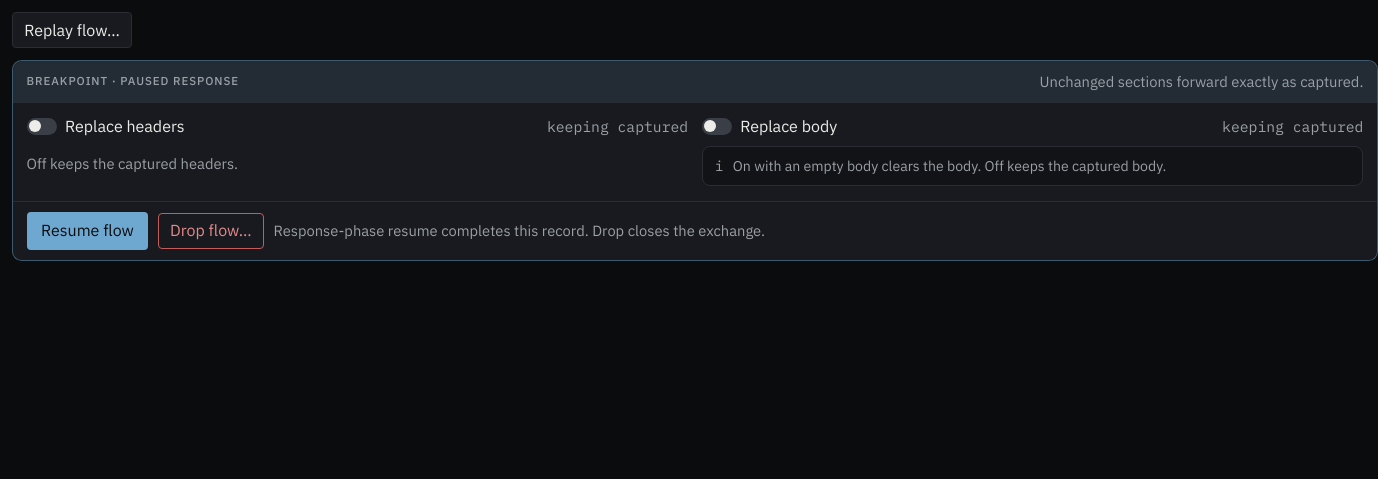
it: sends edited header rows/body and displays server errors
Click the checkbox labelled "Replace headers": (42, 126) [27,118,57,135]
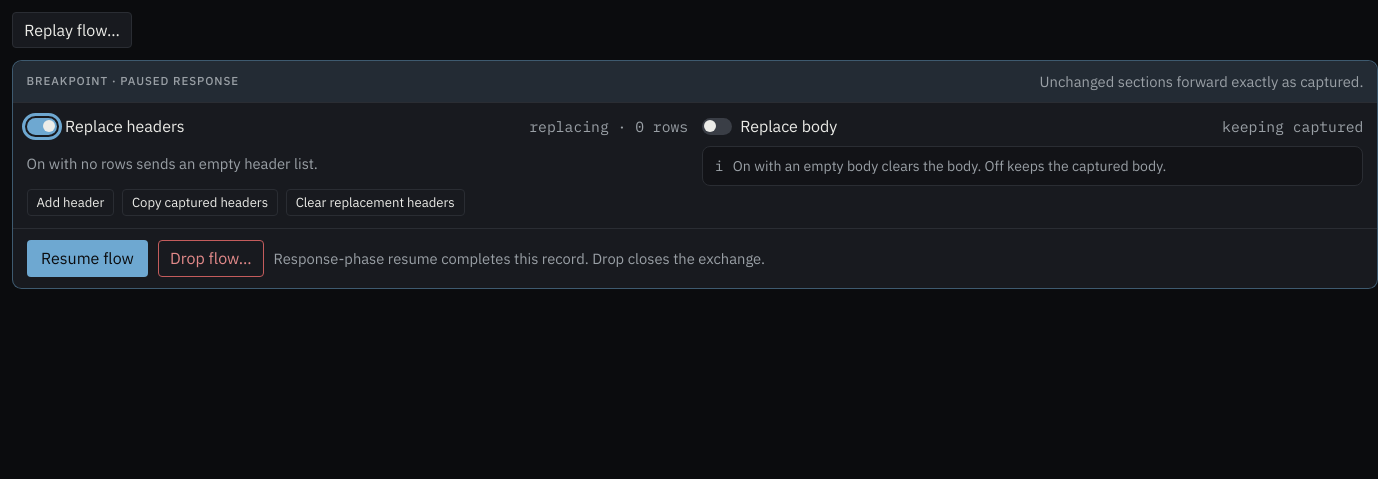
Click the button "Add header": (70, 202) [27,189,114,216]
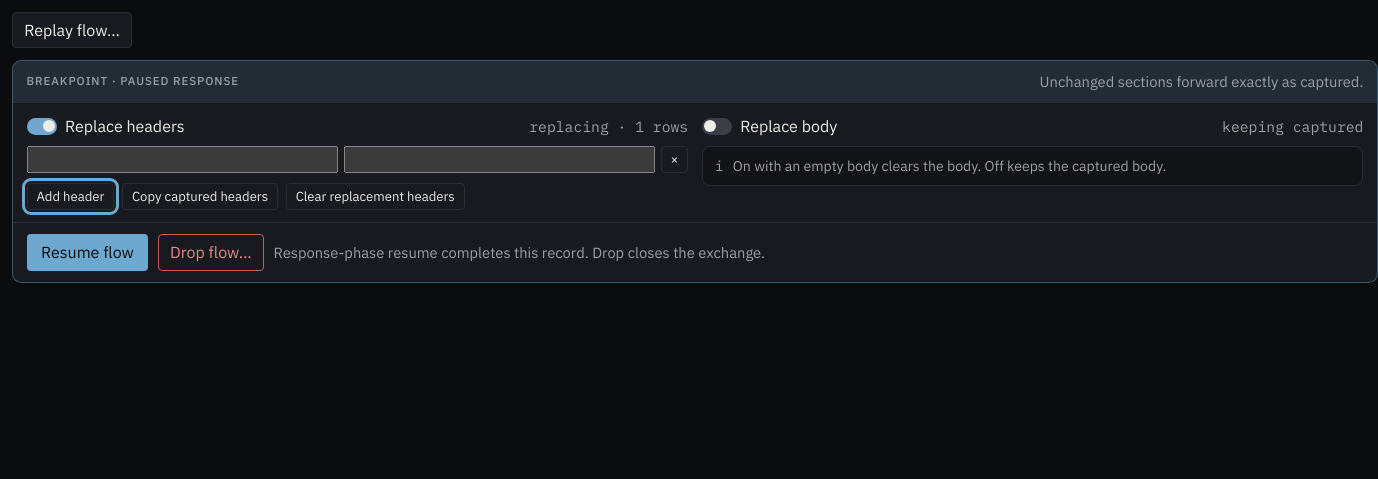
In the field named "Header name 1": (182, 160) [27,146,338,174], type "X-Lab"
In the field named "Header value 1": (499, 160) [344,146,655,174], type "test"
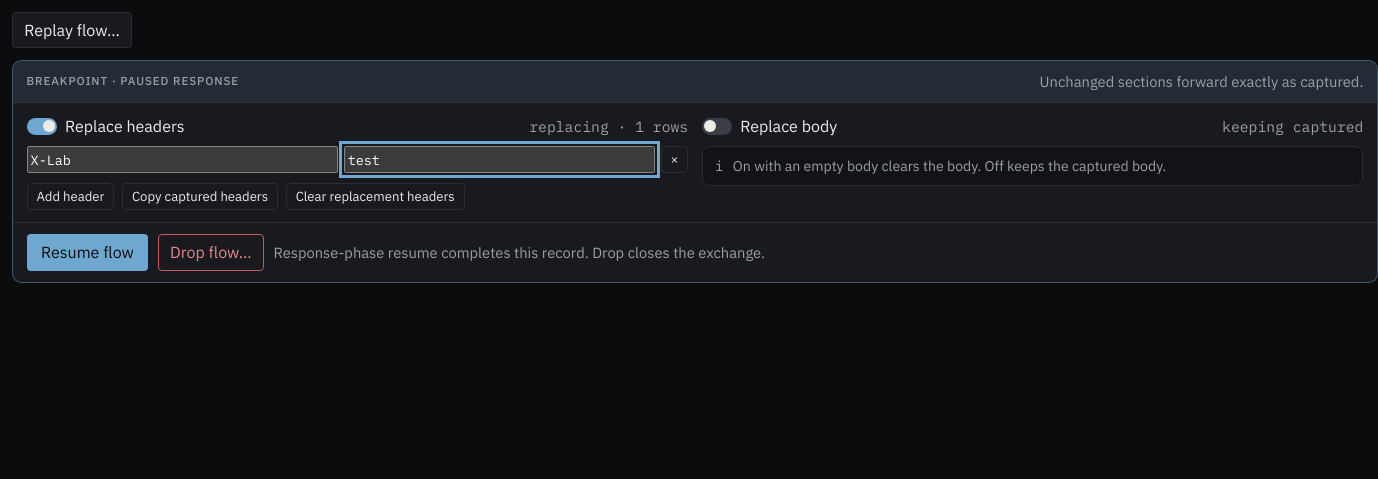
Click the checkbox labelled "Replace body": (717, 126) [702,118,732,135]
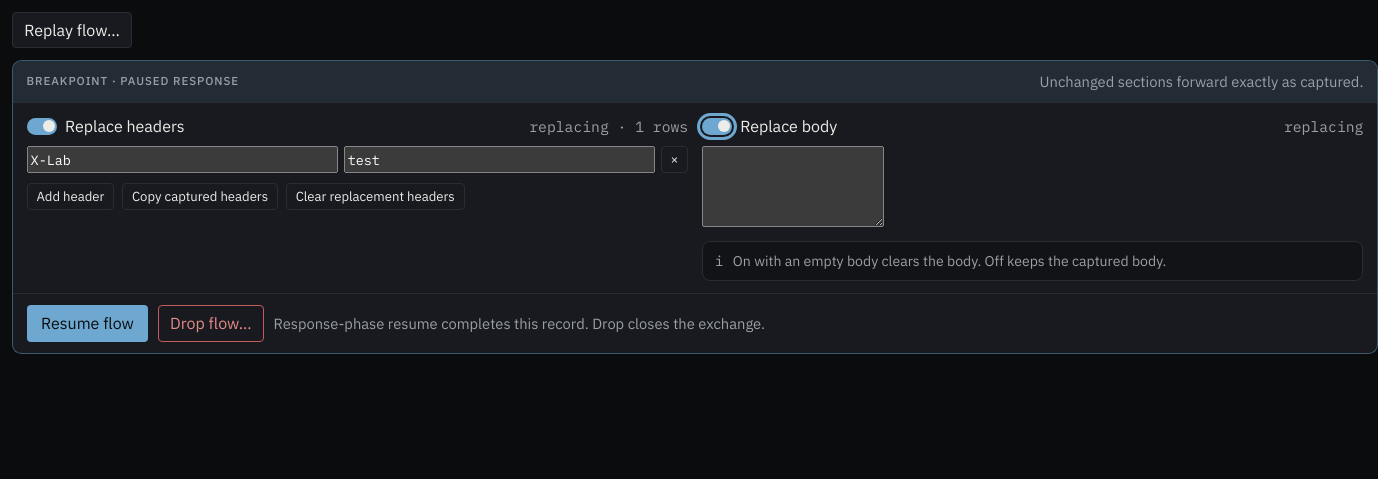
In the text box named "Replacement body": (793, 187) [702,146,884,227], type "edited"
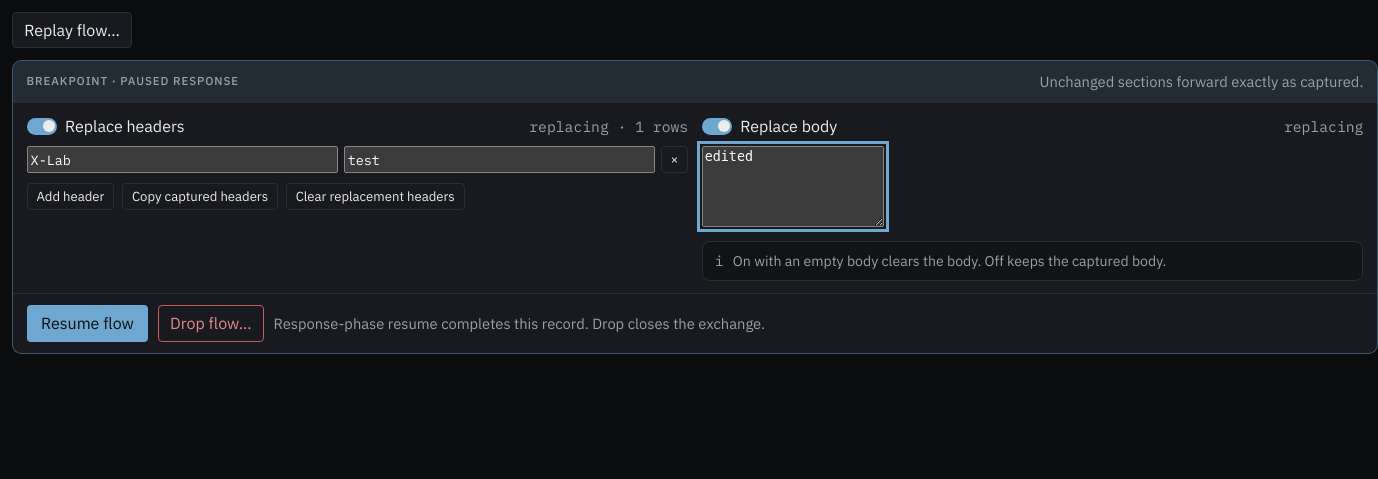
Click the button "Resume flow": (87, 324) [27,305,148,342]
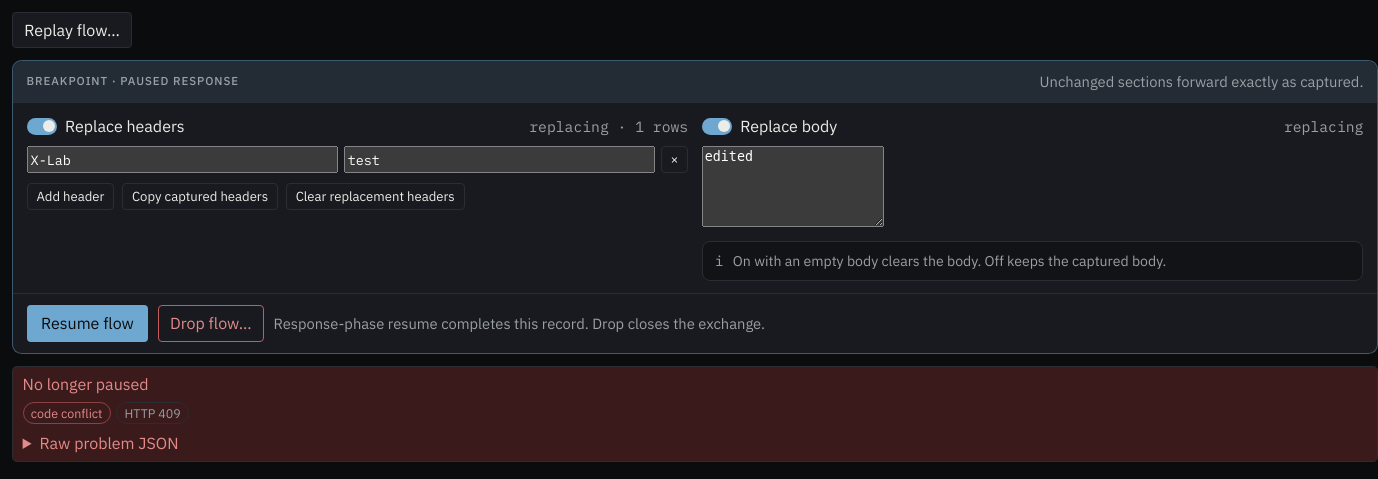
Result: the message shows "No longer paused" at [23,374,149,394]
